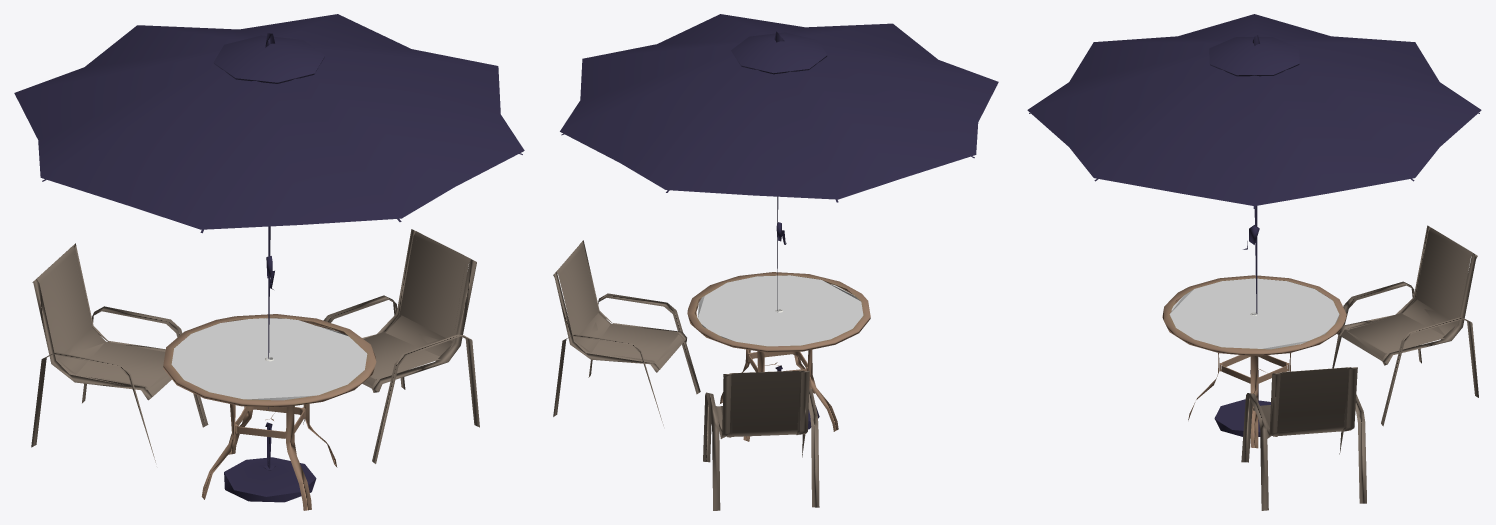
Rendered from patio-set.lod0.glb.
3 renders of one model, left to right at view 1: azimuth 30°, elevation 25°; view 2: azimuth 150°, elevation 25°; view 3: azimuth 270°, elevation 25°, orthographic. The views are drawn at different scales.
Parts seen in each view (by area): view 1: Object_6, Object_9; view 2: Object_6, Object_9; view 3: Object_6, Object_9.
Part boxes in pixels (left/top/right/bottom): Object_6: left=14, top=14, right=524, bottom=502; Object_9: left=163, top=314, right=376, bottom=510; Object_6: left=553, top=14, right=998, bottom=510; Object_9: left=687, top=272, right=870, bottom=441; Object_6: left=1027, top=14, right=1481, bottom=510; Object_9: left=1162, top=275, right=1346, bottom=448.
Bounding box in the file's own units: 2.56 × 2.4 × 2.56.
2 materials, 1 textured.
